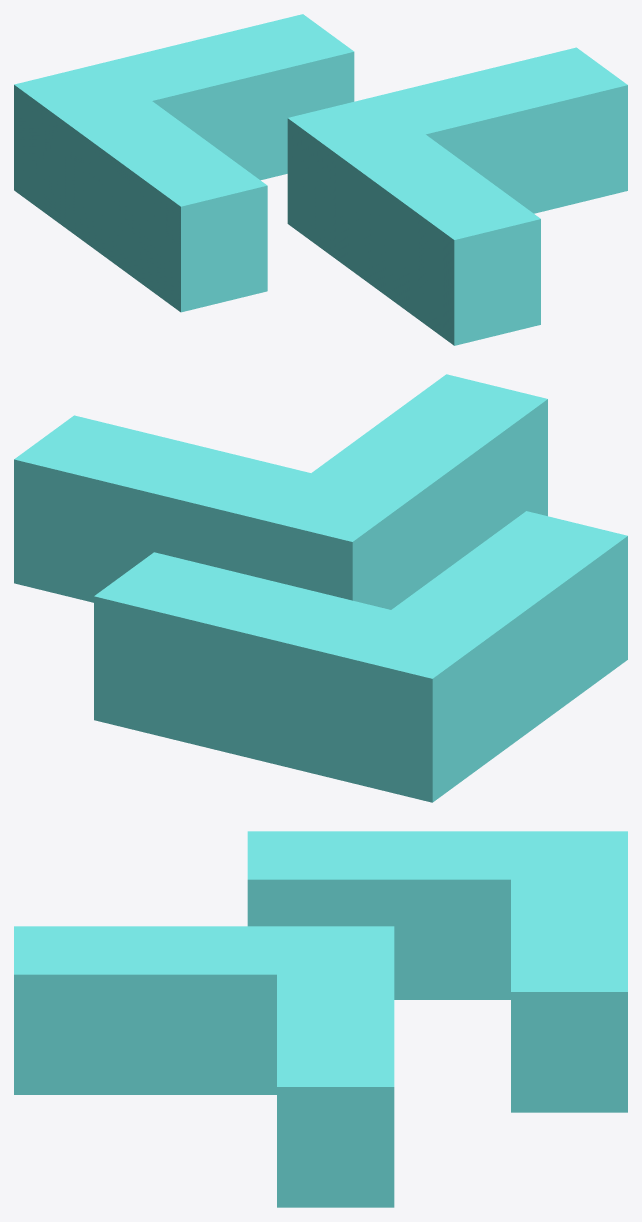
Rendered from arrow.dae.
The picture shows the model from 3 angles, top to bottom: view 1: azimuth 30°, elevation 25°; view 2: azimuth 150°, elevation 25°; view 3: azimuth 270°, elevation 25°; orthographic projection. The views are drawn at different scales.
Visible parts, largest first — view 1: 立方体.1, 立方体; view 2: 立方体, 立方体.1; view 3: 立方体.1, 立方体.
Part boxes in pixels (left/top/right/bottom): 立方体.1: left=287, top=47, right=627, bottom=345; 立方体: left=14, top=14, right=354, bottom=312; 立方体: left=94, top=511, right=627, bottom=802; 立方体.1: left=14, top=374, right=547, bottom=609; 立方体.1: left=14, top=926, right=394, bottom=1207; 立方体: left=247, top=831, right=627, bottom=1112.
Size of the model in its own units: 3.18 by 0.6994 by 3.23.
